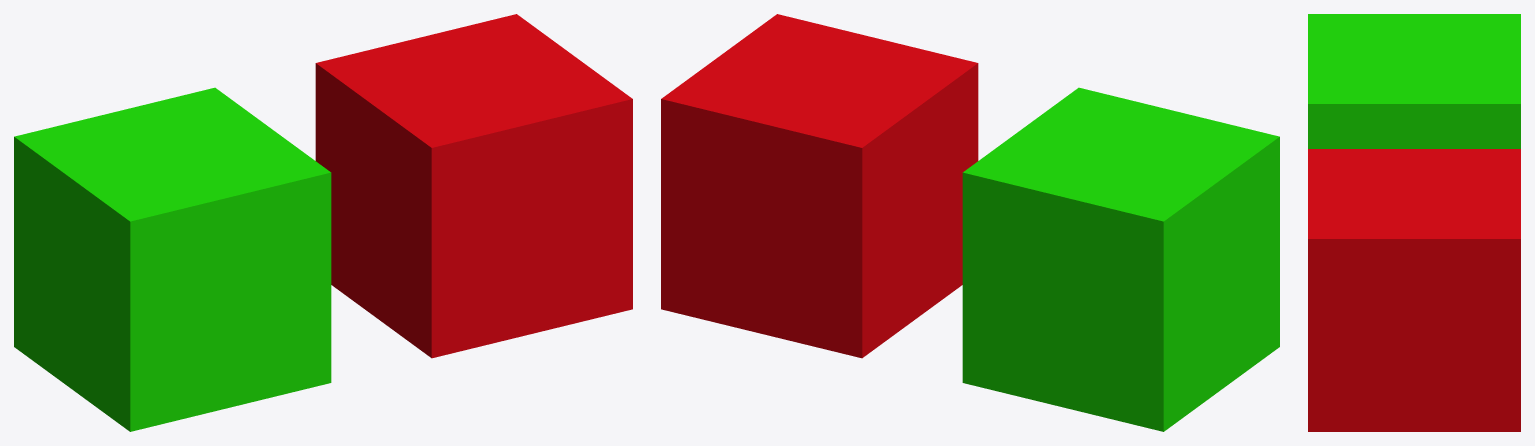
The model's file is green_and_red_cubes.fbx.
3 views of the same model, side by side, from view 1: azimuth 30°, elevation 25°; view 2: azimuth 150°, elevation 25°; view 3: azimuth 270°, elevation 25° (orthographic). The views are drawn at different scales.
Visible parts, largest first — view 1: GreenCube, RedCube; view 2: GreenCube, RedCube; view 3: RedCube, GreenCube.
Part boxes in pixels (left/top/right/bottom): GreenCube: left=14, top=87, right=331, bottom=431; RedCube: left=315, top=14, right=632, bottom=358; GreenCube: left=962, top=87, right=1279, bottom=431; RedCube: left=661, top=14, right=978, bottom=358; RedCube: left=1308, top=149, right=1520, bottom=431; GreenCube: left=1308, top=14, right=1520, bottom=148.
Size of the model in its own units: 500 by 200 by 200.
